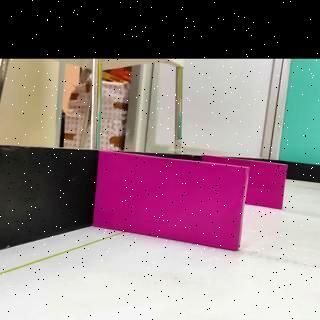xparking: (93, 152, 248, 251), (246, 161, 286, 209)
